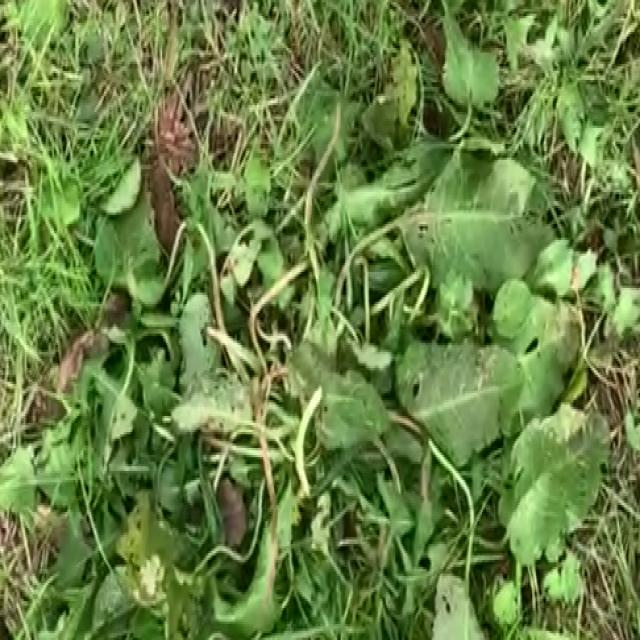organic waste: (47, 66, 635, 640)
